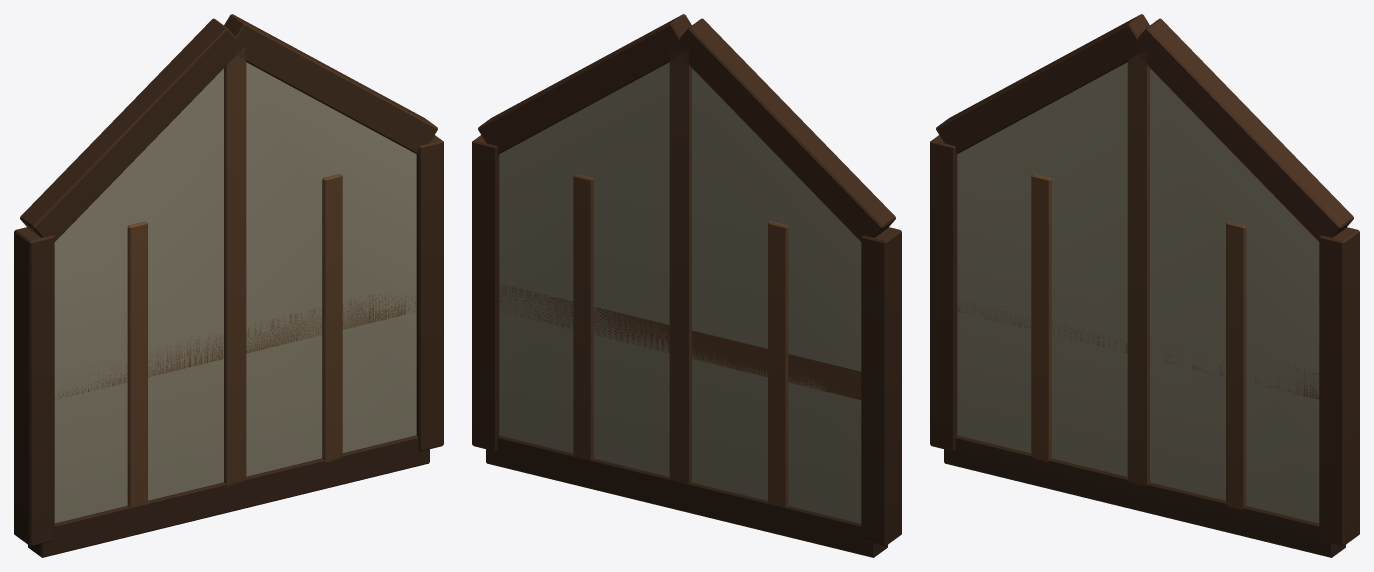
Rendered from piece_woodgable_pent.glb.
3 renders of one model, left to right at view 1: azimuth 30°, elevation 25°; view 2: azimuth 150°, elevation 25°; view 3: azimuth 330°, elevation 25°, orthographic.
Visible parts, largest first — view 1: Base; view 2: Base; view 3: Base.
Part boxes in pixels (<box>): Base: <box>14,14,443,557</box>; Base: <box>472,14,901,557</box>; Base: <box>930,14,1359,557</box>.
Bounding box in the file's own units: 4.26 × 4.76 × 0.3.
